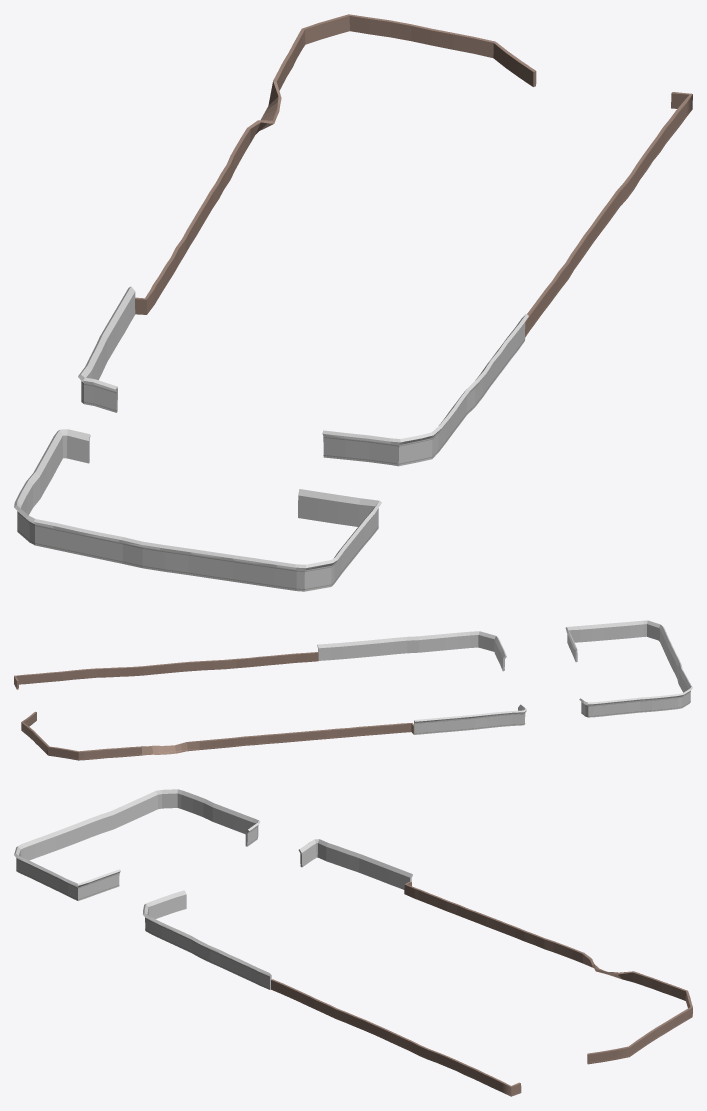
The model's file is storage_fencing.dae.
3 views of the same model, one above another, from view 1: azimuth 30°, elevation 25°; view 2: azimuth 150°, elevation 25°; view 3: azimuth 270°, elevation 25° (orthographic). The views are drawn at different scales.
Visible parts, largest first — view 1: Colmesh-1, storage_fencing_a2000; view 2: Colmesh-1, storage_fencing_a2000; view 3: Colmesh-1, storage_fencing_a2000.
Part boxes in pixels (box(x1,y1,x2,y2)): Colmesh-1: box(14, 14, 692, 591); storage_fencing_a2000: box(16, 49, 692, 591); Colmesh-1: box(14, 620, 692, 760); storage_fencing_a2000: box(14, 636, 690, 759); Colmesh-1: box(14, 789, 692, 1096); storage_fencing_a2000: box(16, 825, 692, 1096).
Size of the model in its own units: 117 by 114 by 6.56.
